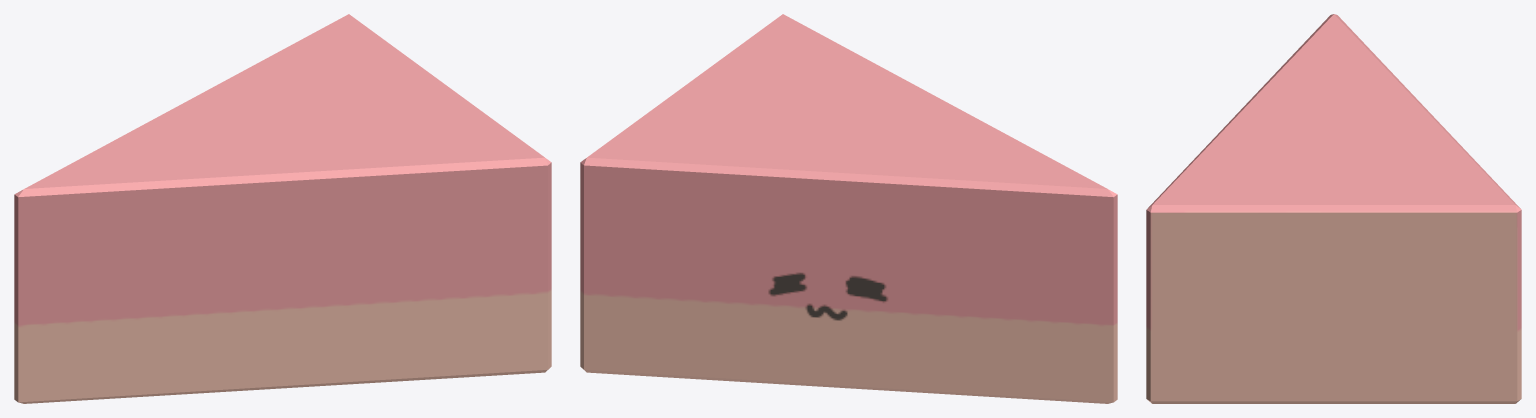
Rendered from Oden_Cake.gltf.
3 renders of one model, left to right at view 1: azimuth 30°, elevation 25°; view 2: azimuth 150°, elevation 25°; view 3: azimuth 270°, elevation 25°, orthographic. The views are drawn at different scales.
Parts seen in each view (by area): view 1: Oden_Cake; view 2: Oden_Cake; view 3: Oden_Cake.
Boxes of the visible parts, x1=… form: Oden_Cake: x1=14, y1=14, x2=551, y2=403; Oden_Cake: x1=580, y1=14, x2=1117, y2=403; Oden_Cake: x1=1146, y1=14, x2=1521, y2=403.
Bounding box in the file's own units: 1.89 × 0.8918 × 1.53.
1 material, 1 textured.
